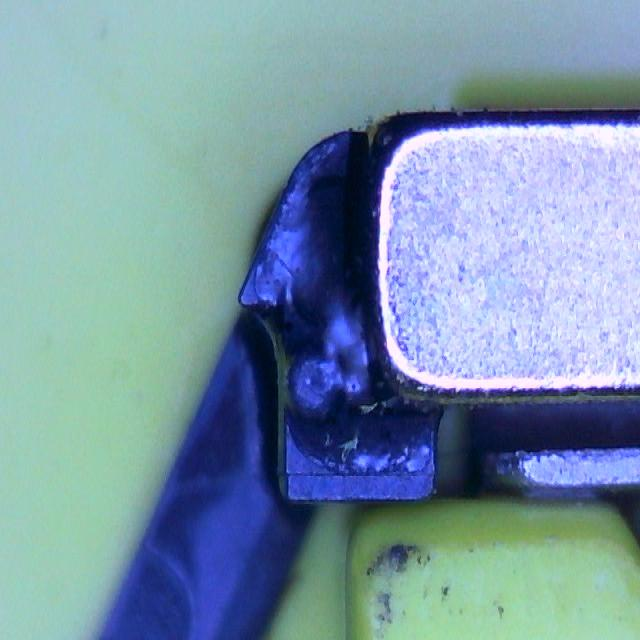over: (287, 170, 373, 363)
